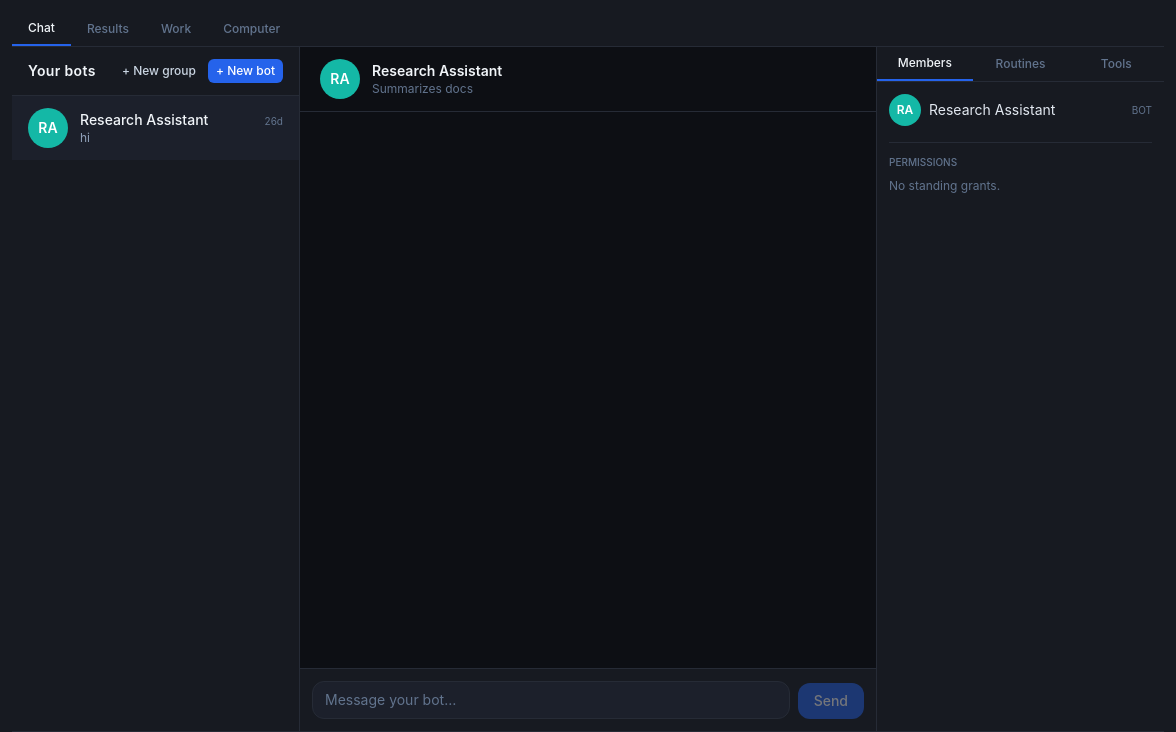
ChatPage › loads the active bot's real routines into the Routines tab through ChatPage
Click the tab "Routines".
click(1021, 64)  # box [973, 47, 1068, 81]
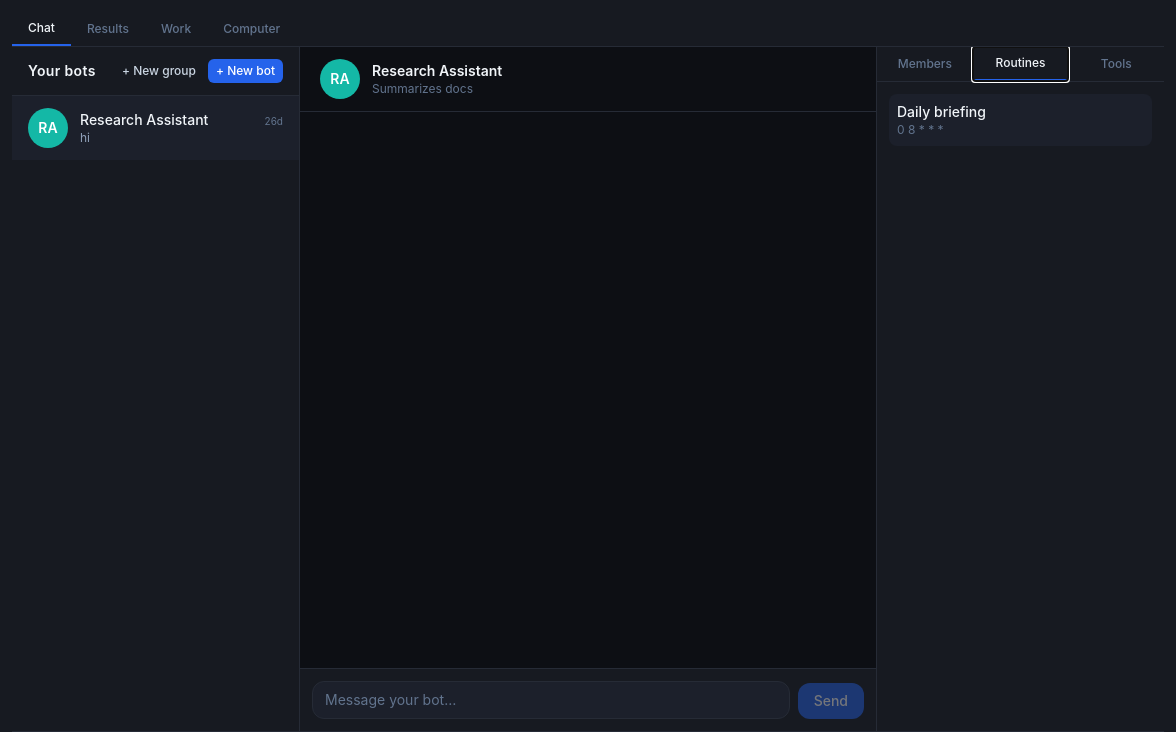
Expected: the text "Daily briefing" is shown, [897, 103, 986, 120]
Expected: the text "0 8 * * *" is shown, [897, 122, 944, 137]
